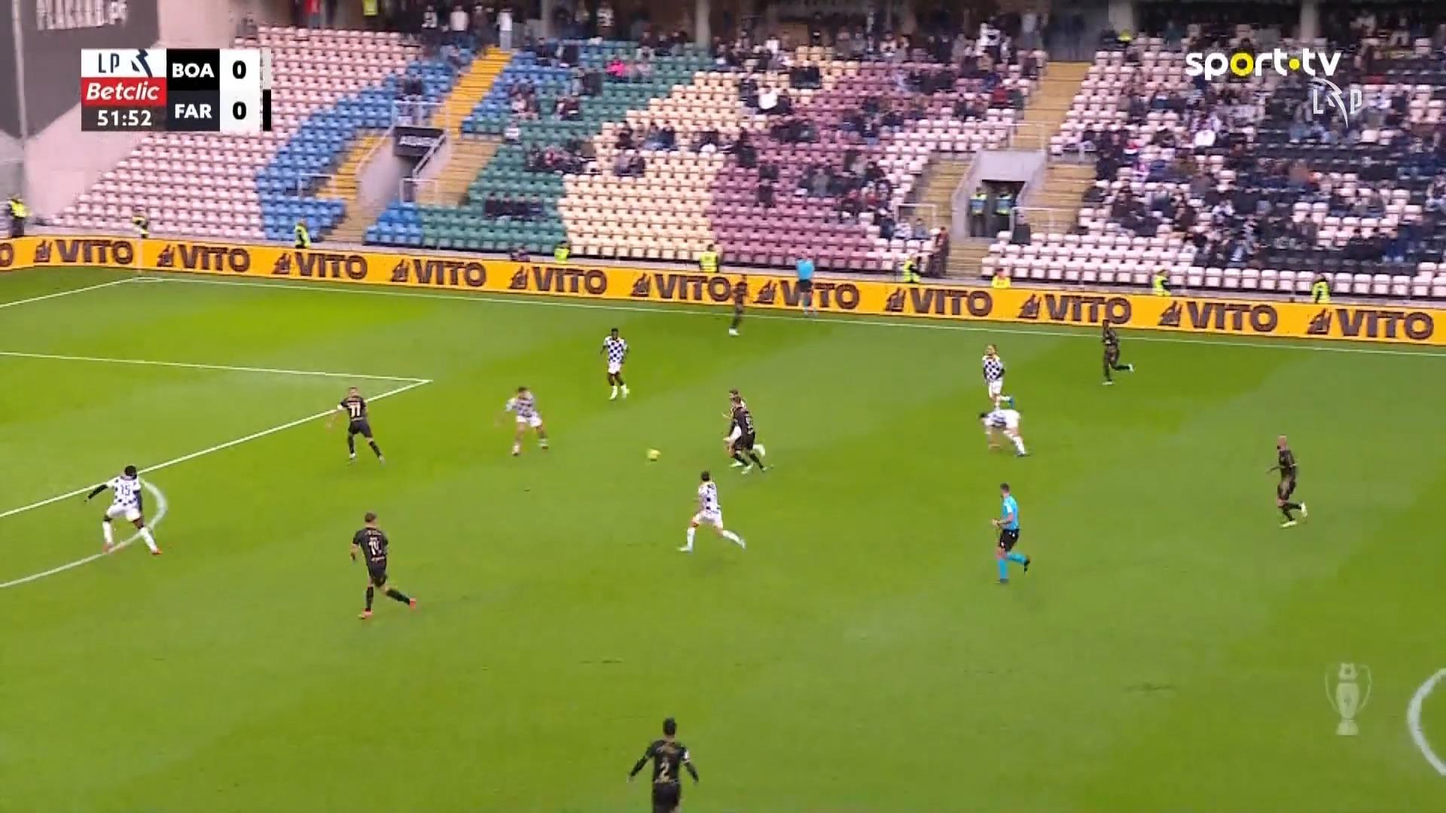ball: (646, 448, 660, 461)
player: (349, 510, 417, 620), (83, 464, 163, 556), (627, 716, 699, 811), (677, 470, 746, 553), (325, 385, 385, 464), (721, 392, 772, 473), (1265, 434, 1307, 527), (502, 385, 549, 456), (978, 394, 1030, 457), (1100, 317, 1134, 385), (599, 327, 630, 400), (981, 343, 1006, 410), (727, 274, 749, 335)
referee: (990, 481, 1030, 583), (793, 250, 817, 316)
